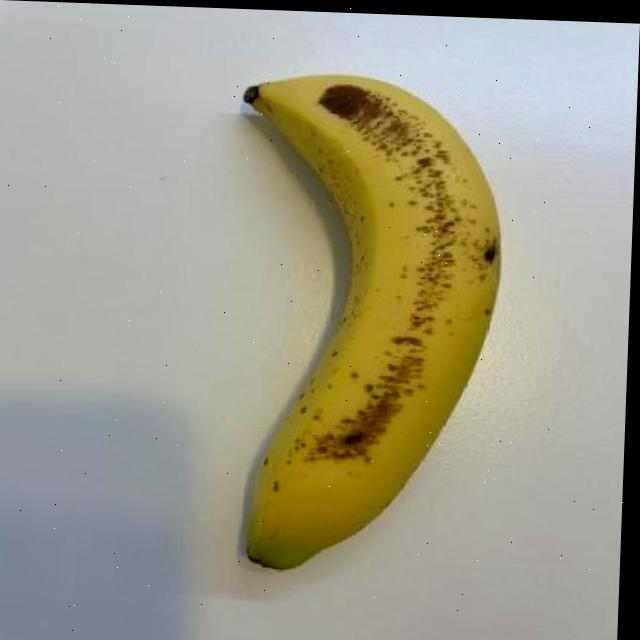banana: (217, 67, 505, 583)
